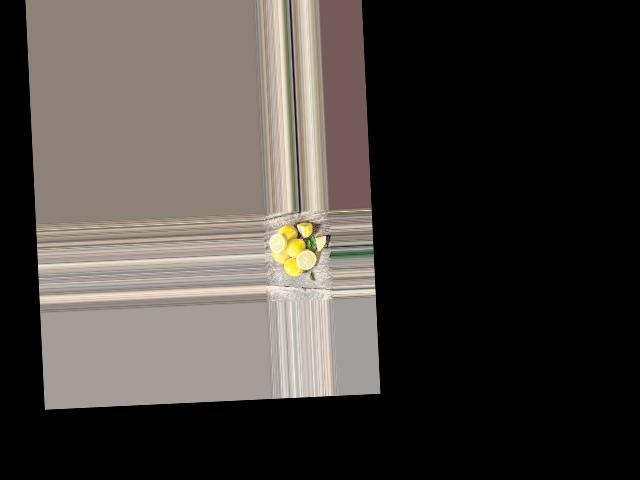lemon: (279, 223, 299, 242)
